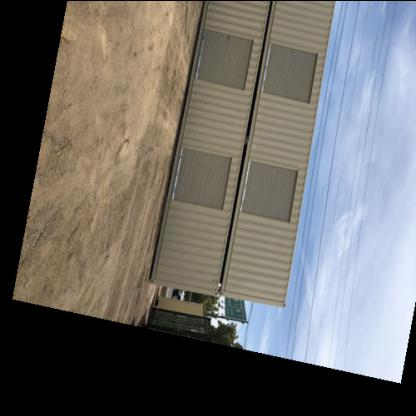Damage: (278, 35, 306, 57), (218, 24, 236, 44), (202, 150, 214, 166)
